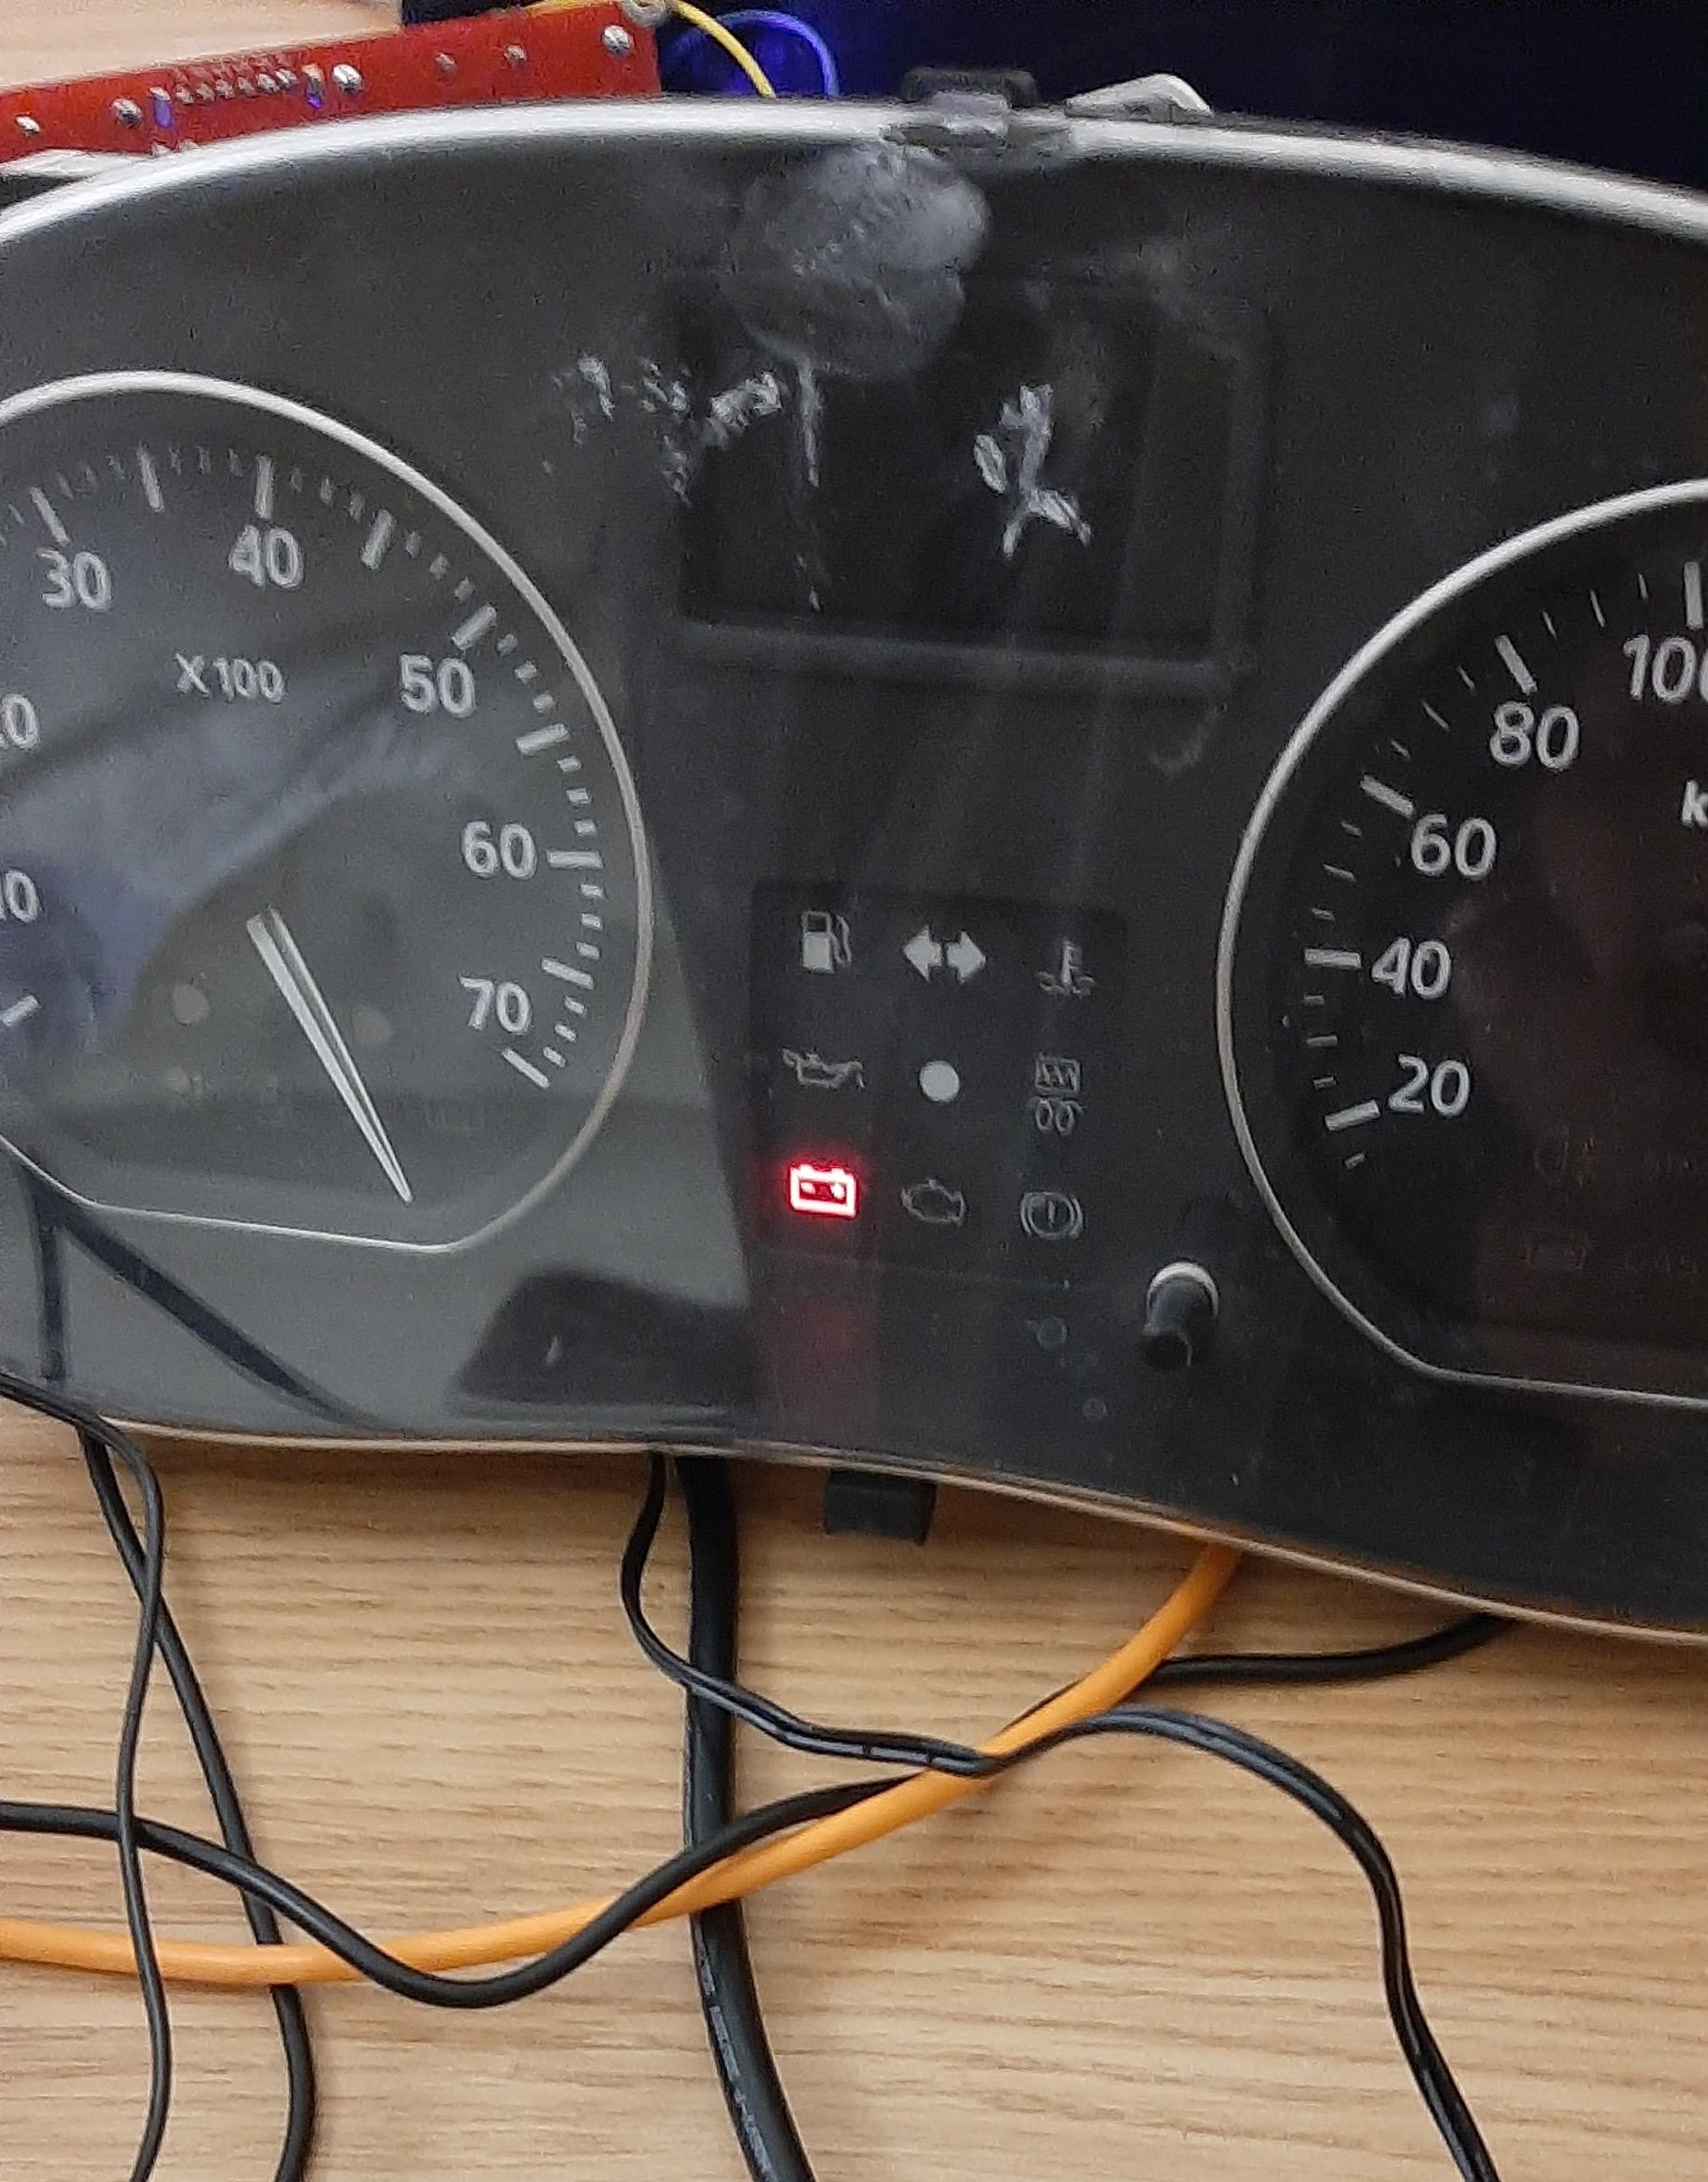accomulator25: (783, 1155, 865, 1220)
